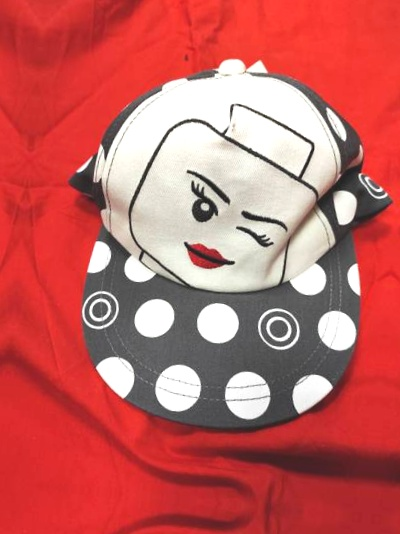Hat: (30, 32, 400, 466), (378, 66, 400, 501), (0, 0, 14, 427)
